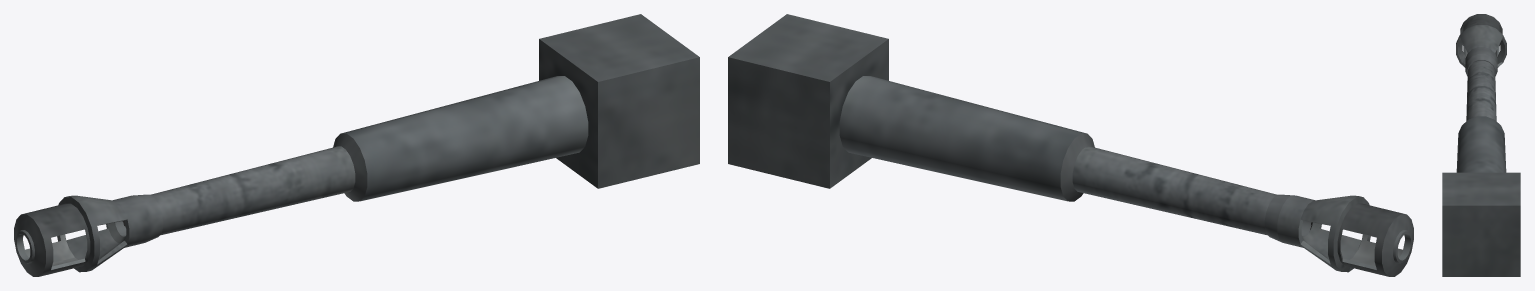
File: 105mmL28.obj
3 renders of one model, left to right at view 1: azimuth 30°, elevation 25°; view 2: azimuth 150°, elevation 25°; view 3: azimuth 270°, elevation 25°, orthographic. The views are drawn at different scales.
Visible parts, largest first — view 1: 105mm_120mmL44_120mmL44_円柱; view 2: 105mm_120mmL44_120mmL44_円柱; view 3: 105mm_120mmL44_120mmL44_円柱.
Part boxes in pixels (<box>): 105mm_120mmL44_120mmL44_円柱: <box>14,14,699,276</box>; 105mm_120mmL44_120mmL44_円柱: <box>728,14,1413,276</box>; 105mm_120mmL44_120mmL44_円柱: <box>1442,14,1520,276</box>.
Size of the model in its own units: 2.53 by 0.4001 by 0.4.
